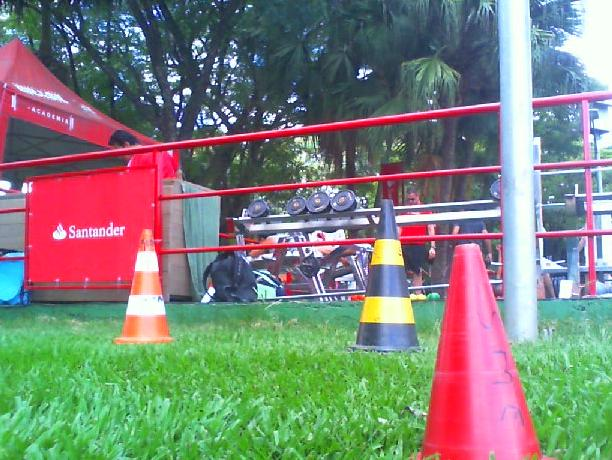0 cone: (417, 243, 560, 460), (349, 199, 423, 351), (113, 227, 175, 344)
